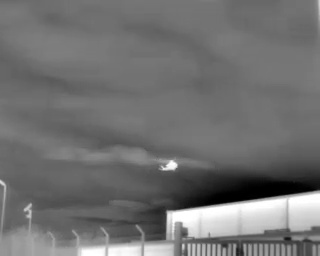HELICOPTER: (153, 154, 182, 177)
